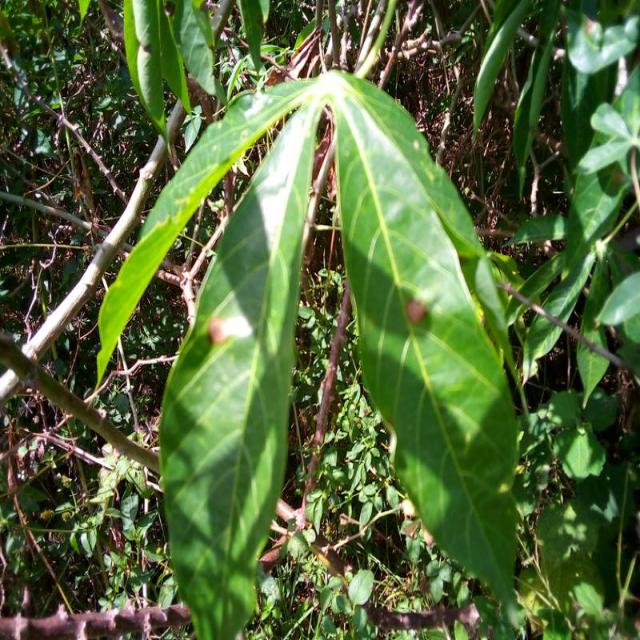cassava leaf: (96, 67, 522, 638), (327, 67, 522, 634), (157, 85, 321, 638)
